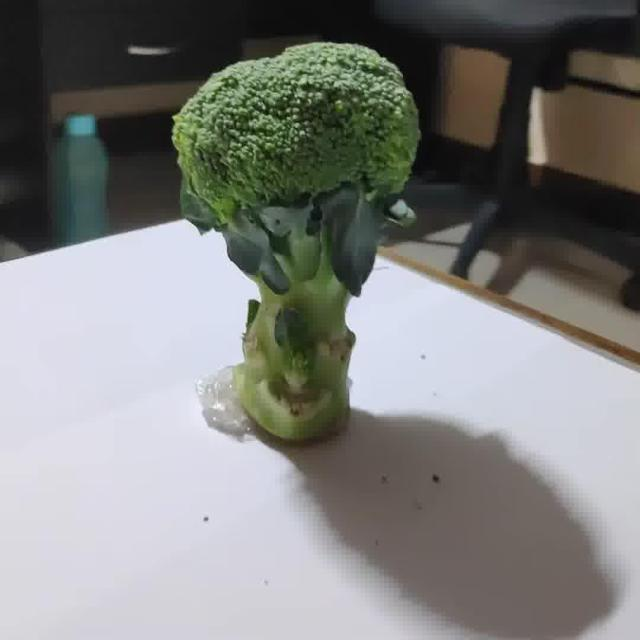Broccoli: (172, 43, 420, 444)
